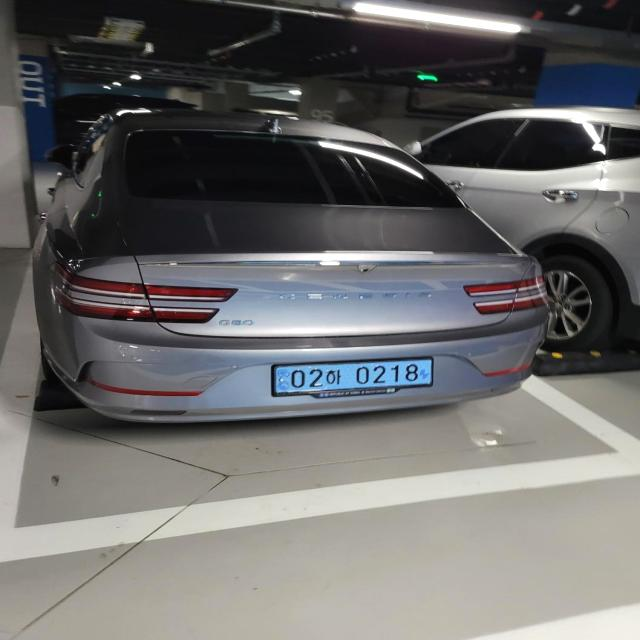EV_plate: (269, 359, 436, 401)
car: (30, 99, 564, 435)
